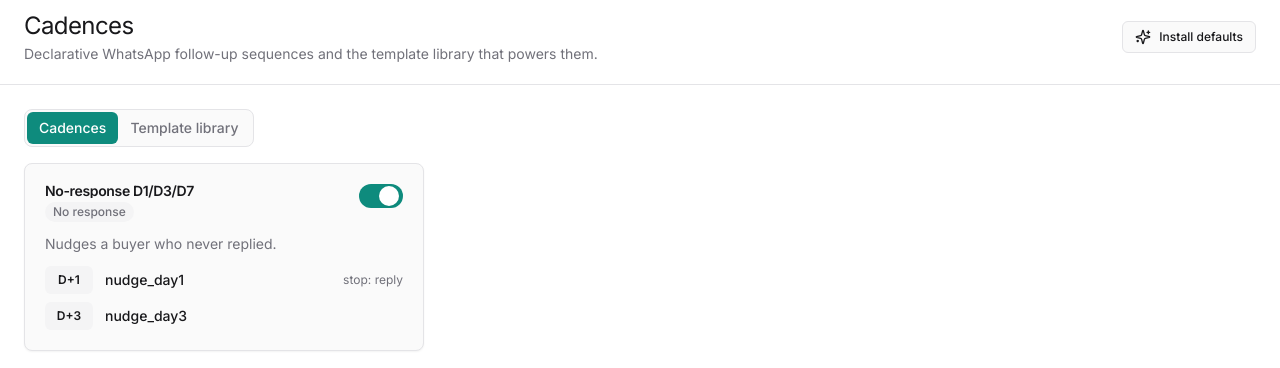
Test: the page shell › switches to the template library and back
This screenshot has width=1280, height=368.
Click the button "Template library" at [184, 128], box left=118, top=112, right=250, bottom=144
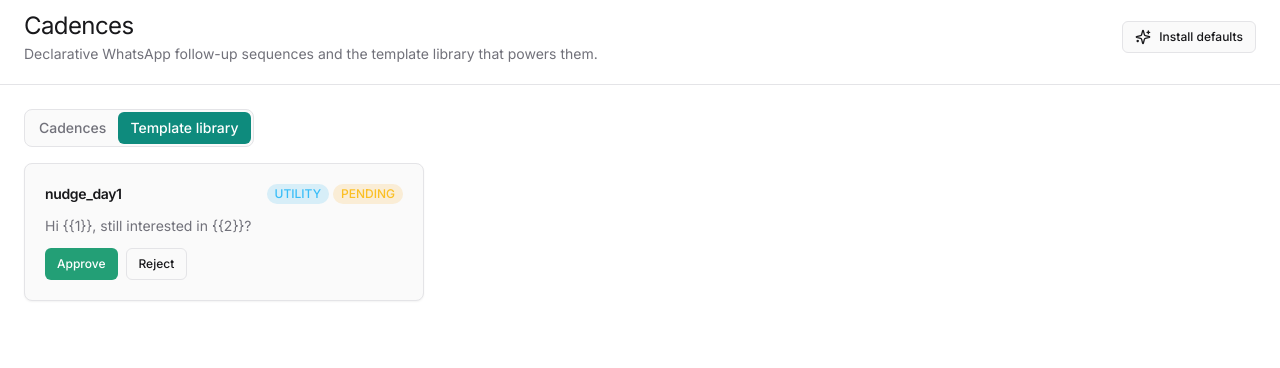
Check: the text "Hi {{1}}, still interested in {{2}}?" is shown, box left=45, top=217, right=252, bottom=234
Check: the heading "No-response D1/D3/D7" is gone
Click the button "Cadences" at [73, 128], box left=27, top=112, right=118, bottom=144
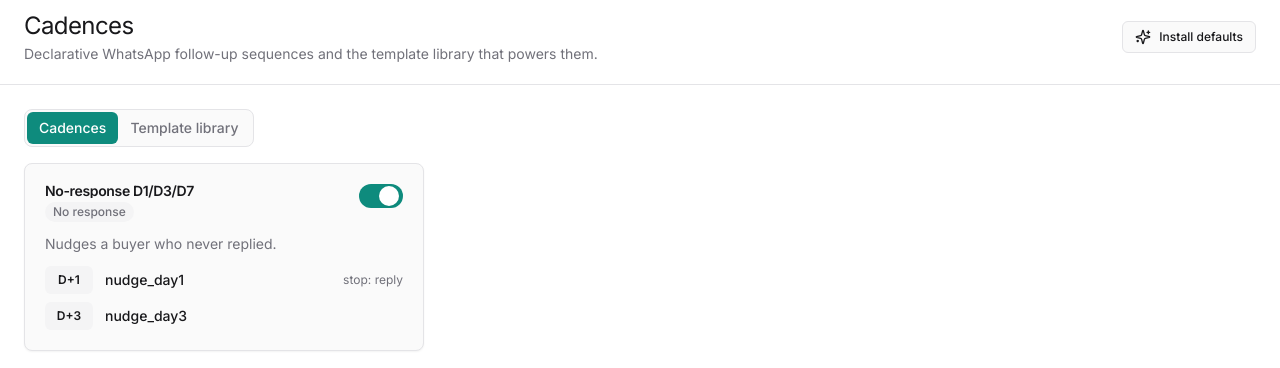
Check: the heading "No-response D1/D3/D7" is shown, box left=45, top=184, right=194, bottom=198
